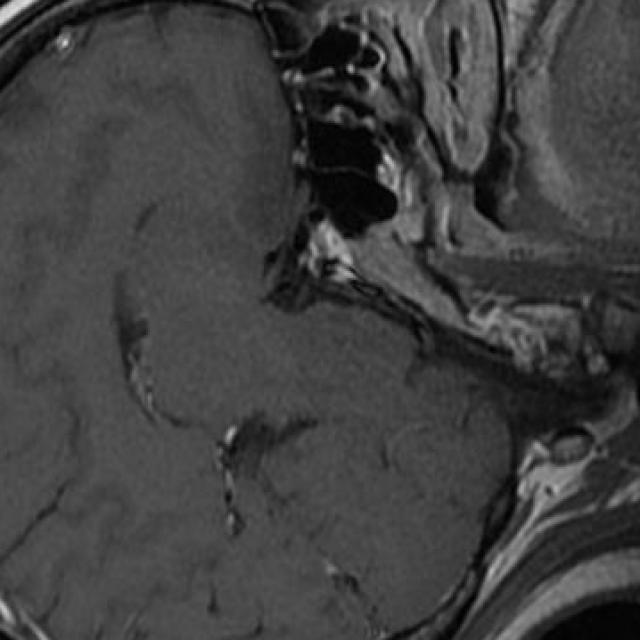pituitary: (314, 223, 360, 271)
